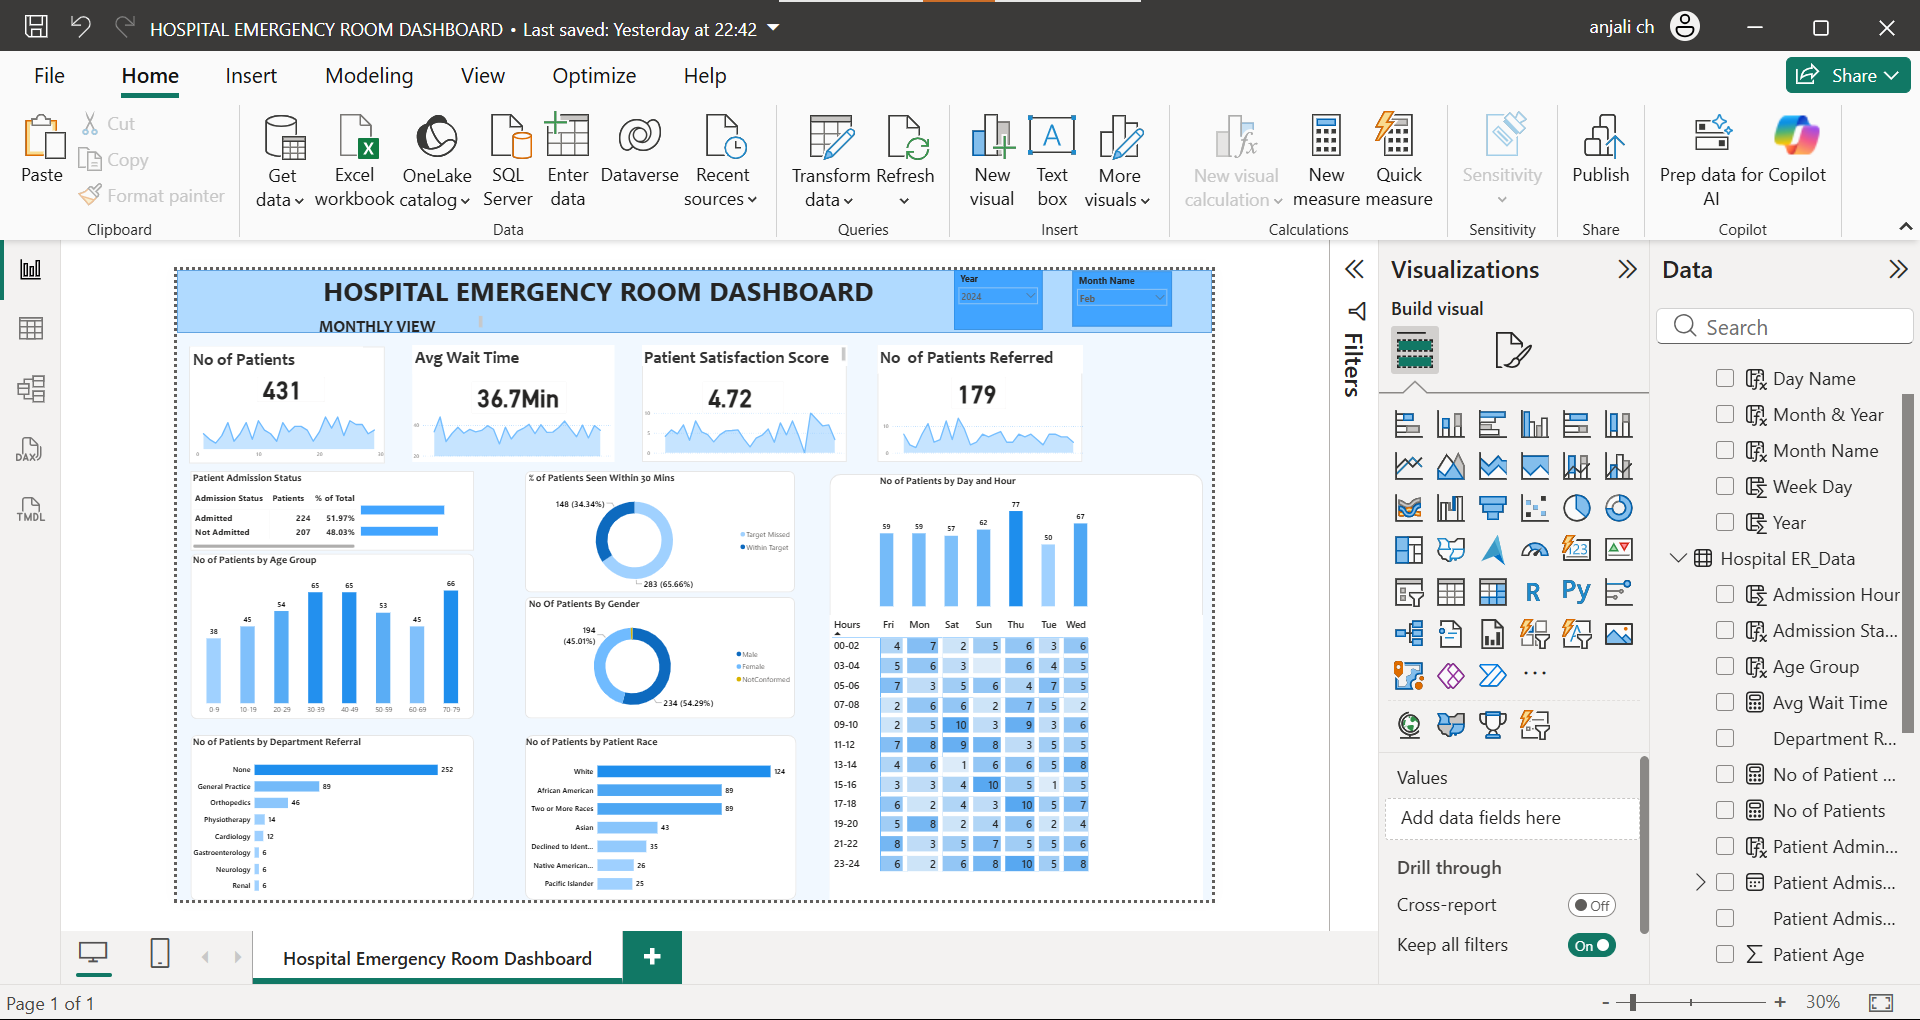

The dashboard page shown, as its layout file describes it:
{"tool":"powerbi","page":{"name":"Hospital Emergency Room Dashboard","canvas":[2300,1400],"ordinal":0},"visuals":[{"type":"shape","box":[30,446.7,630,177],"z":0},{"type":"shape","box":[0,0,2300,140],"z":1000},{"type":"textbox","box":[320,0,1236,95.1],"z":2000},{"type":"shape","box":[26.7,170,435,260],"z":3000},{"type":"textbox","box":[309,95.1,373.5,44.1],"z":4000},{"type":"cardVisual","fields":{"Data":["Hospital ER_Data.No of Patients"]},"box":[160,220,186.7,90],"z":5000},{"type":"slicer","fields":{"Values":["Date Table.Year"]},"box":[1725,0,197,132.4],"z":6000},{"type":"slicer","fields":{"Values":["Date Table.Month Name"]},"box":[1989.9,3.4,220.7,122.2],"z":7000},{"type":"textbox","box":[30,170,383.3,60],"z":8000},{"type":"areaChart","fields":{"Category":["Date Table.Date.Variation.Date Hierarchy.Day"],"Y":["Hospital ER_Data.No of Patients"]},"box":[30,300,436.7,126.7],"z":9000},{"type":"shape","box":[523.3,166.7,448.5,259.8],"z":10000},{"type":"textbox","box":[523.3,166.7,413.3,63.3],"z":11000},{"type":"shape","box":[1033.3,166.7,455,260],"z":12000},{"type":"textbox","box":[1033.3,166.7,456.7,46.7],"z":13000},{"type":"shape","box":[1556.7,166.7,455,260],"z":14000},{"type":"textbox","box":[1556.7,166.7,456.7,63.3],"z":15000},{"type":"cardVisual","fields":{"Data":["Hospital ER_Data.Avg Wait Time"]},"box":[636.7,230,246.7,106.7],"z":16000},{"type":"areaChart","fields":{"Category":["Date Table.Date.Variation.Date Hierarchy.Day"],"Y":["Avg(Hospital ER_Data.Patient Waittime)"]},"box":[520,296.7,448.5,129.9],"z":17000},{"type":"pivotTable","title":"Patient Admission Status","fields":{"Rows":["Hospital ER_Data.Admission Status"],"Values":["Hospital ER_Data.No of Patients1","Hospital ER_Data.No of Patients"]},"box":[30,446.7,373.5,176.6],"z":18000},{"type":"barChart","fields":{"Category":["Hospital ER_Data.Admission Status"],"Y":["Hospital ER_Data.No of Patients"]},"box":[403.3,486.7,258.1,135.8],"z":19000},{"type":"shape","box":[30,630,630,368],"z":20000},{"type":"clusteredColumnChart","fields":{"Category":["Hospital ER_Data.Age Group"],"Y":["Hospital ER_Data.No of Patients"]},"box":[30,630,631.6,366.7],"z":21000},{"type":"shape","box":[30,1033.3,630,368],"z":22000},{"type":"clusteredBarChart","fields":{"Category":["Hospital ER_Data.Department Referral"],"Y":["Hospital ER_Data.No of Patients"]},"box":[30,1033.3,631.6,366.7],"z":23000},{"type":"shape","box":[773.3,726.7,600,270],"z":24000},{"type":"shape","box":[1450,453.3,830,946.7],"z":25000},{"type":"shape","box":[773.3,446.7,600,270],"z":26000},{"type":"donutChart","title":"% of Patients Seen Within 30 Mins","fields":{"Category":["Hospital ER_Data.Waittime Status"],"Y":["Hospital ER_Data.No of Patients"]},"box":[776.7,446.7,600,270],"z":27000},{"type":"donutChart","title":"No Of Patients By Gender","fields":{"Category":["Hospital ER_Data.Patient Gender"],"Y":["Hospital ER_Data.No of Patients"]},"box":[776.7,726.7,600,270],"z":28000},{"type":"shape","box":[773.3,1033.3,603.3,366.7],"z":29000},{"type":"clusteredBarChart","fields":{"Category":["Hospital ER_Data.Patient Race"],"Y":["Hospital ER_Data.No of Patients"]},"box":[770,1033.3,603.3,366.7],"z":30000},{"type":"pivotTable","fields":{"Columns":["Date Table.Day Name"],"Rows":["Hospital ER_Data.Waittime Interval"],"Values":["Hospital ER_Data.No of Patients"]},"box":[1450,766.7,830,633.3],"z":31000},{"type":"columnChart","title":"No of Patients by Day and Hour","fields":{"Category":["Date Table.Day Name"],"Y":["Hospital ER_Data.No of Patients"]},"box":[1556.7,453.3,473.3,300],"z":32000},{"type":"cardVisual","fields":{"Data":["Hospital ER_Data.Satisfaction Score"]},"box":[1150,230,216.5,105.2],"z":33000},{"type":"areaChart","fields":{"Category":["Date Table.Date.Variation.Date Hierarchy.Day"],"Y":["Hospital ER_Data.Satisfaction Score"]},"box":[1033.3,303.3,456.7,116.7],"z":34000},{"type":"cardVisual","fields":{"Data":["Hospital ER_Data.No of Patient Referred"]},"box":[1703.3,220,156.7,106.7],"z":35000},{"type":"areaChart","fields":{"Category":["Date Table.Date.Variation.Date Hierarchy.Day"],"Y":["Hospital ER_Data.No of Patient Referred"]},"box":[1563.3,303.3,456.7,116.7],"z":36000}]}

Visuals, with their boxes on the page's 2300x1400 design canvas (x1, y1, x2, y2). These are canvas units, not pixel positions in the 1920x1020 screenshot, which may show the page scaled, cropped or inside an application window:
shape: box(30, 447, 660, 624)
shape: box(0, 0, 2300, 140)
textbox: box(320, 0, 1556, 95)
shape: box(27, 170, 462, 430)
textbox: box(309, 95, 682, 139)
cardVisual - Hospital ER_Data.No of Patients: box(160, 220, 347, 310)
slicer - Date Table.Year: box(1725, 0, 1922, 132)
slicer - Date Table.Month Name: box(1990, 3, 2211, 126)
textbox: box(30, 170, 413, 230)
areaChart - Date Table.Date.Variation.Date Hierarchy.Day x Hospital ER_Data.No of Patients: box(30, 300, 467, 427)
shape: box(523, 167, 972, 426)
textbox: box(523, 167, 937, 230)
shape: box(1033, 167, 1488, 427)
textbox: box(1033, 167, 1490, 213)
shape: box(1557, 167, 2012, 427)
textbox: box(1557, 167, 2013, 230)
cardVisual - Hospital ER_Data.Avg Wait Time: box(637, 230, 883, 337)
areaChart - Date Table.Date.Variation.Date Hierarchy.Day x Avg(Hospital ER_Data.Patient Waittime): box(520, 297, 968, 427)
"Patient Admission Status" pivotTable: box(30, 447, 404, 623)
barChart - Hospital ER_Data.Admission Status x Hospital ER_Data.No of Patients: box(403, 487, 661, 622)
shape: box(30, 630, 660, 998)
clusteredColumnChart - Hospital ER_Data.Age Group x Hospital ER_Data.No of Patients: box(30, 630, 662, 997)
shape: box(30, 1033, 660, 1401)
clusteredBarChart - Hospital ER_Data.Department Referral x Hospital ER_Data.No of Patients: box(30, 1033, 662, 1400)
shape: box(773, 727, 1373, 997)
shape: box(1450, 453, 2280, 1400)
shape: box(773, 447, 1373, 717)
"% of Patients Seen Within 30 Mins" donutChart: box(777, 447, 1377, 717)
"No Of Patients By Gender" donutChart: box(777, 727, 1377, 997)
shape: box(773, 1033, 1377, 1400)
clusteredBarChart - Hospital ER_Data.Patient Race x Hospital ER_Data.No of Patients: box(770, 1033, 1373, 1400)
pivotTable - Date Table.Day Name x Hospital ER_Data.Waittime Interval: box(1450, 767, 2280, 1400)
"No of Patients by Day and Hour" columnChart: box(1557, 453, 2030, 753)
cardVisual - Hospital ER_Data.Satisfaction Score: box(1150, 230, 1366, 335)
areaChart - Date Table.Date.Variation.Date Hierarchy.Day x Hospital ER_Data.Satisfaction Score: box(1033, 303, 1490, 420)
cardVisual - Hospital ER_Data.No of Patient Referred: box(1703, 220, 1860, 327)
areaChart - Date Table.Date.Variation.Date Hierarchy.Day x Hospital ER_Data.No of Patient Referred: box(1563, 303, 2020, 420)
